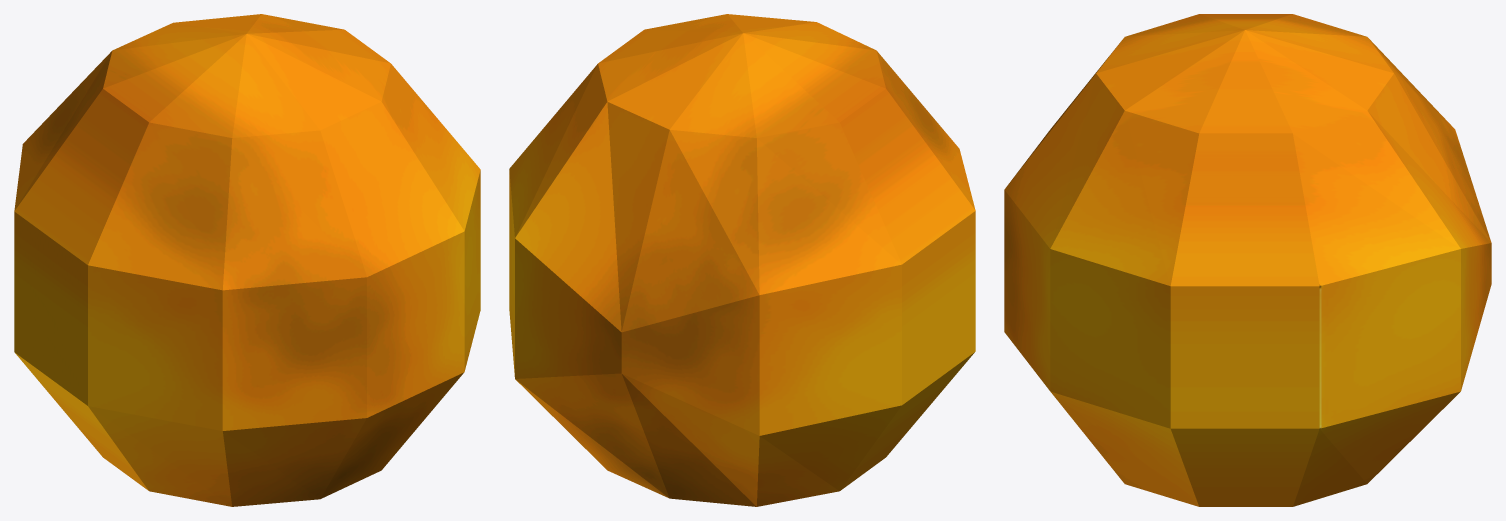
The model's file is Fireball.glb.
The picture shows the model from 3 angles, left to right: view 1: azimuth 30°, elevation 25°; view 2: azimuth 150°, elevation 25°; view 3: azimuth 270°, elevation 25°; orthographic projection.
Parts seen in each view (by area): view 1: Fireball; view 2: Fireball; view 3: Fireball.
Part boxes in pixels (bbox=[...]): Fireball: bbox=[14, 14, 480, 506]; Fireball: bbox=[509, 14, 975, 506]; Fireball: bbox=[1004, 14, 1491, 506].
Bounding box in the file's own units: 26.58 × 29.39 × 28.2.
1 material, 1 textured.
